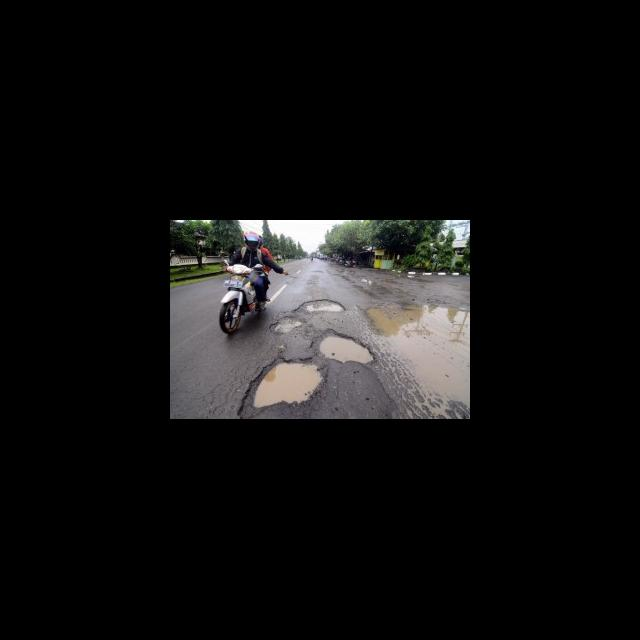lubang_kecil: (240, 352, 325, 416), (305, 323, 378, 377), (289, 291, 350, 319), (261, 315, 306, 343)
